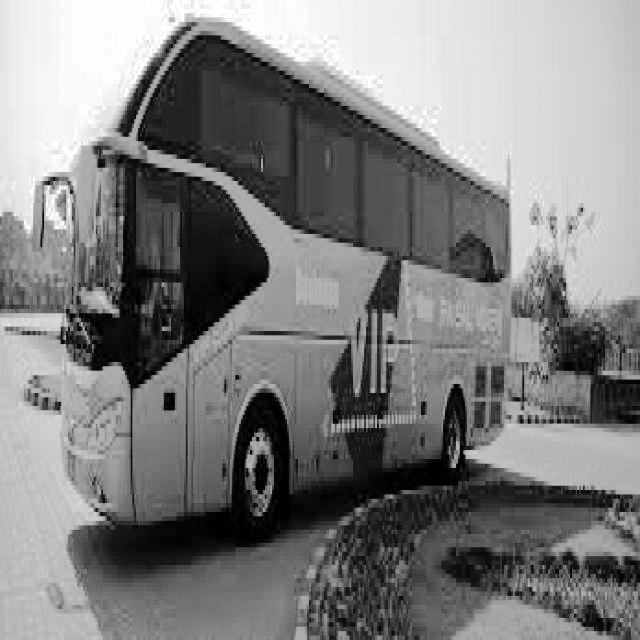Bus: (40, 0, 522, 547)
